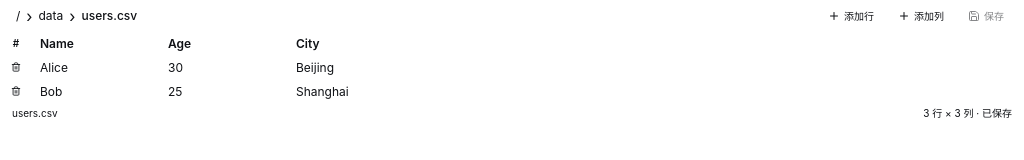
CsvEditor › deletes a data row when clicking the delete row button
The image size is (1024, 160).
Expected: the 4th field showing "Alice" is shown, [32,56,160,80]
Click the 1st button titled "删除行" at (16, 67), box [9,60,23,74]
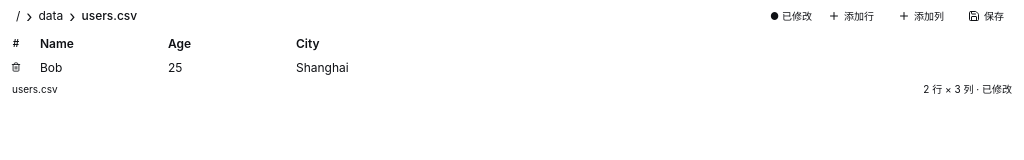
Expected: the field showing "Alice" is not shown
Expected: the number of fields is 6, [32,32,160,56]; [160,32,288,56]; [288,32,416,56]; [32,56,160,80]; [160,56,288,80]; [288,56,416,80]
Expected: the 4th field showing "Bob" is shown, [32,56,160,80]
